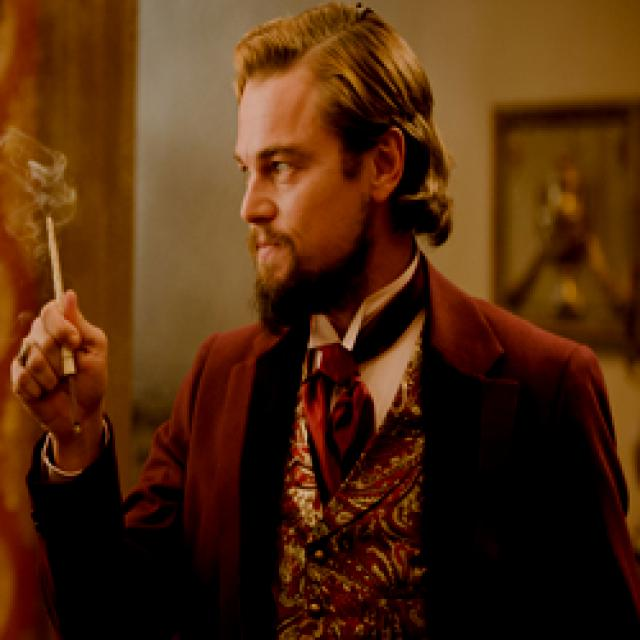Smooking: (40, 212, 91, 387)
